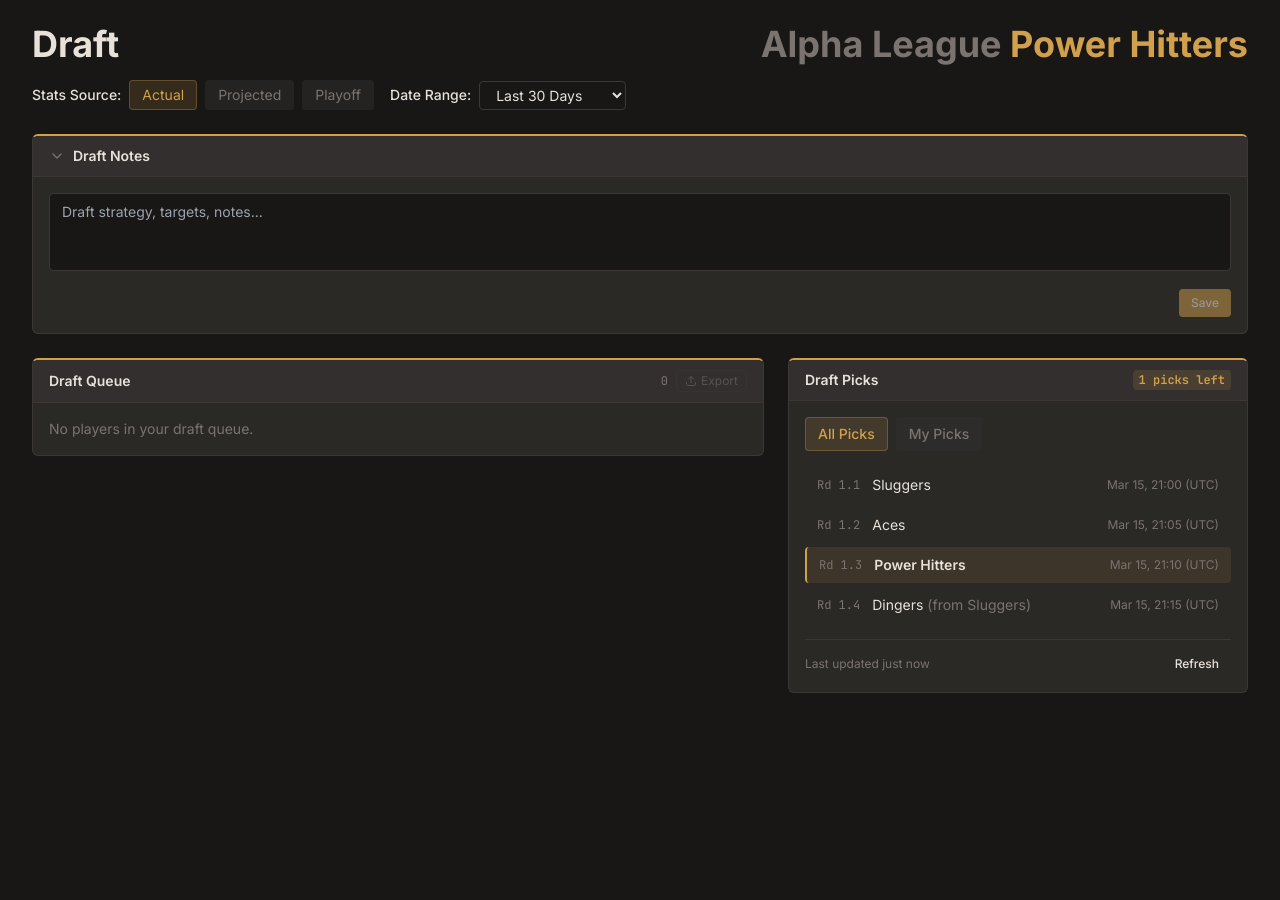
Test: DraftPage › Picks Integration › should filter to my picks when My Picks is clicked
This screenshot has width=1280, height=900.
Click the button "My Picks".
click(939, 434)  # box [896,417,982,451]
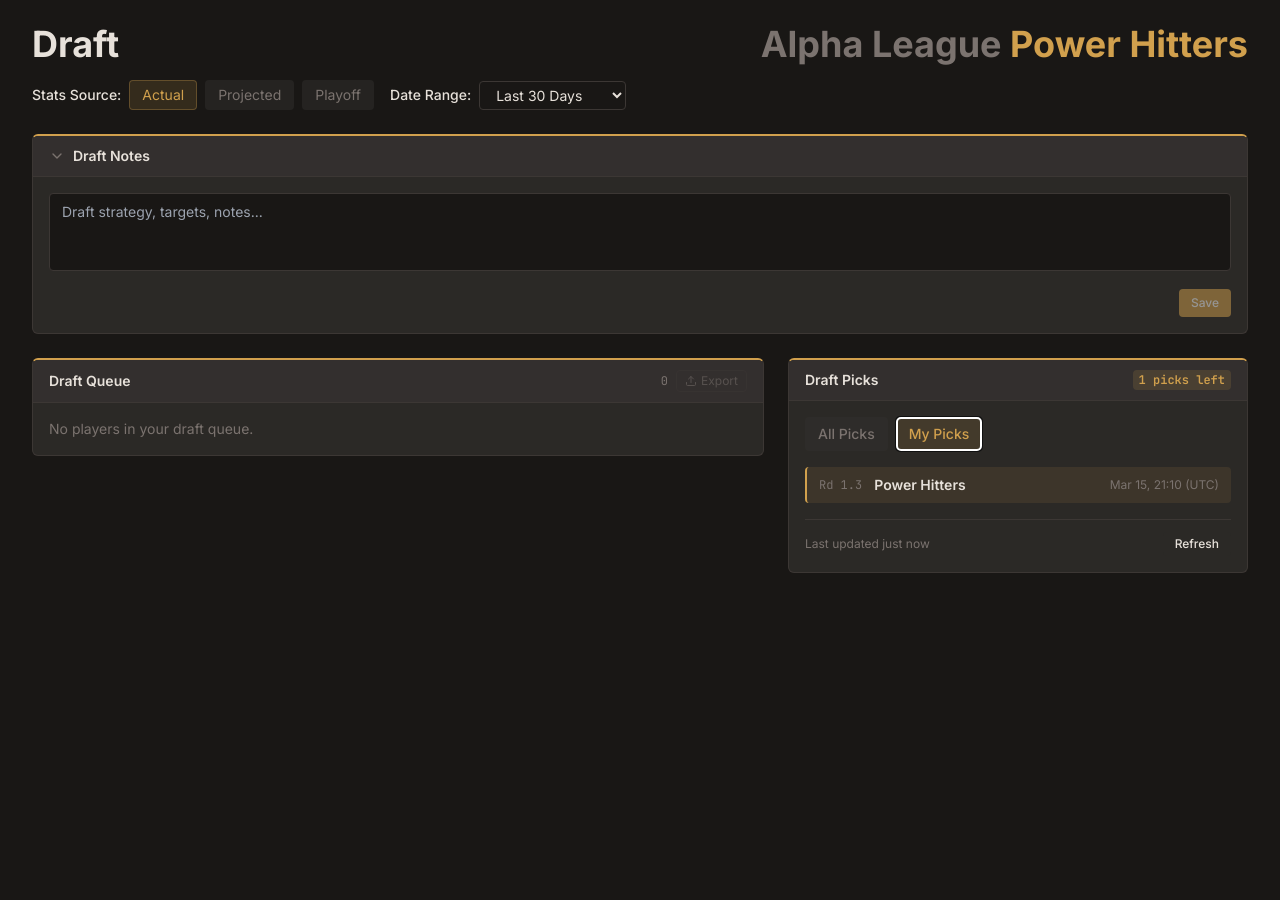
Check: the text "Draft Picks" is shown, box [805,370,878,390]
Check: the text "Sluggers" is gone
